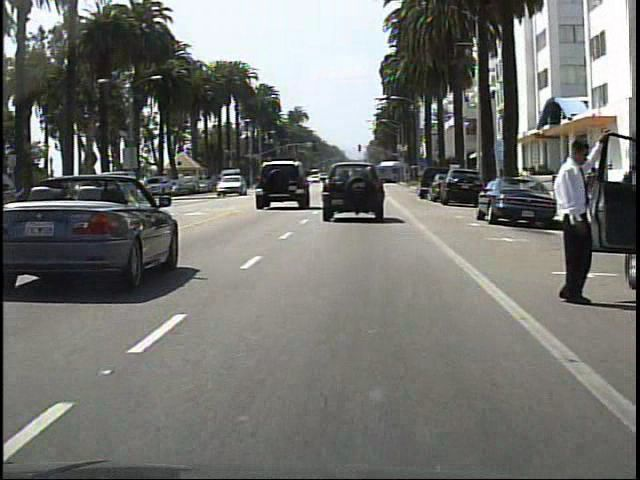person: (540, 123, 603, 318)
